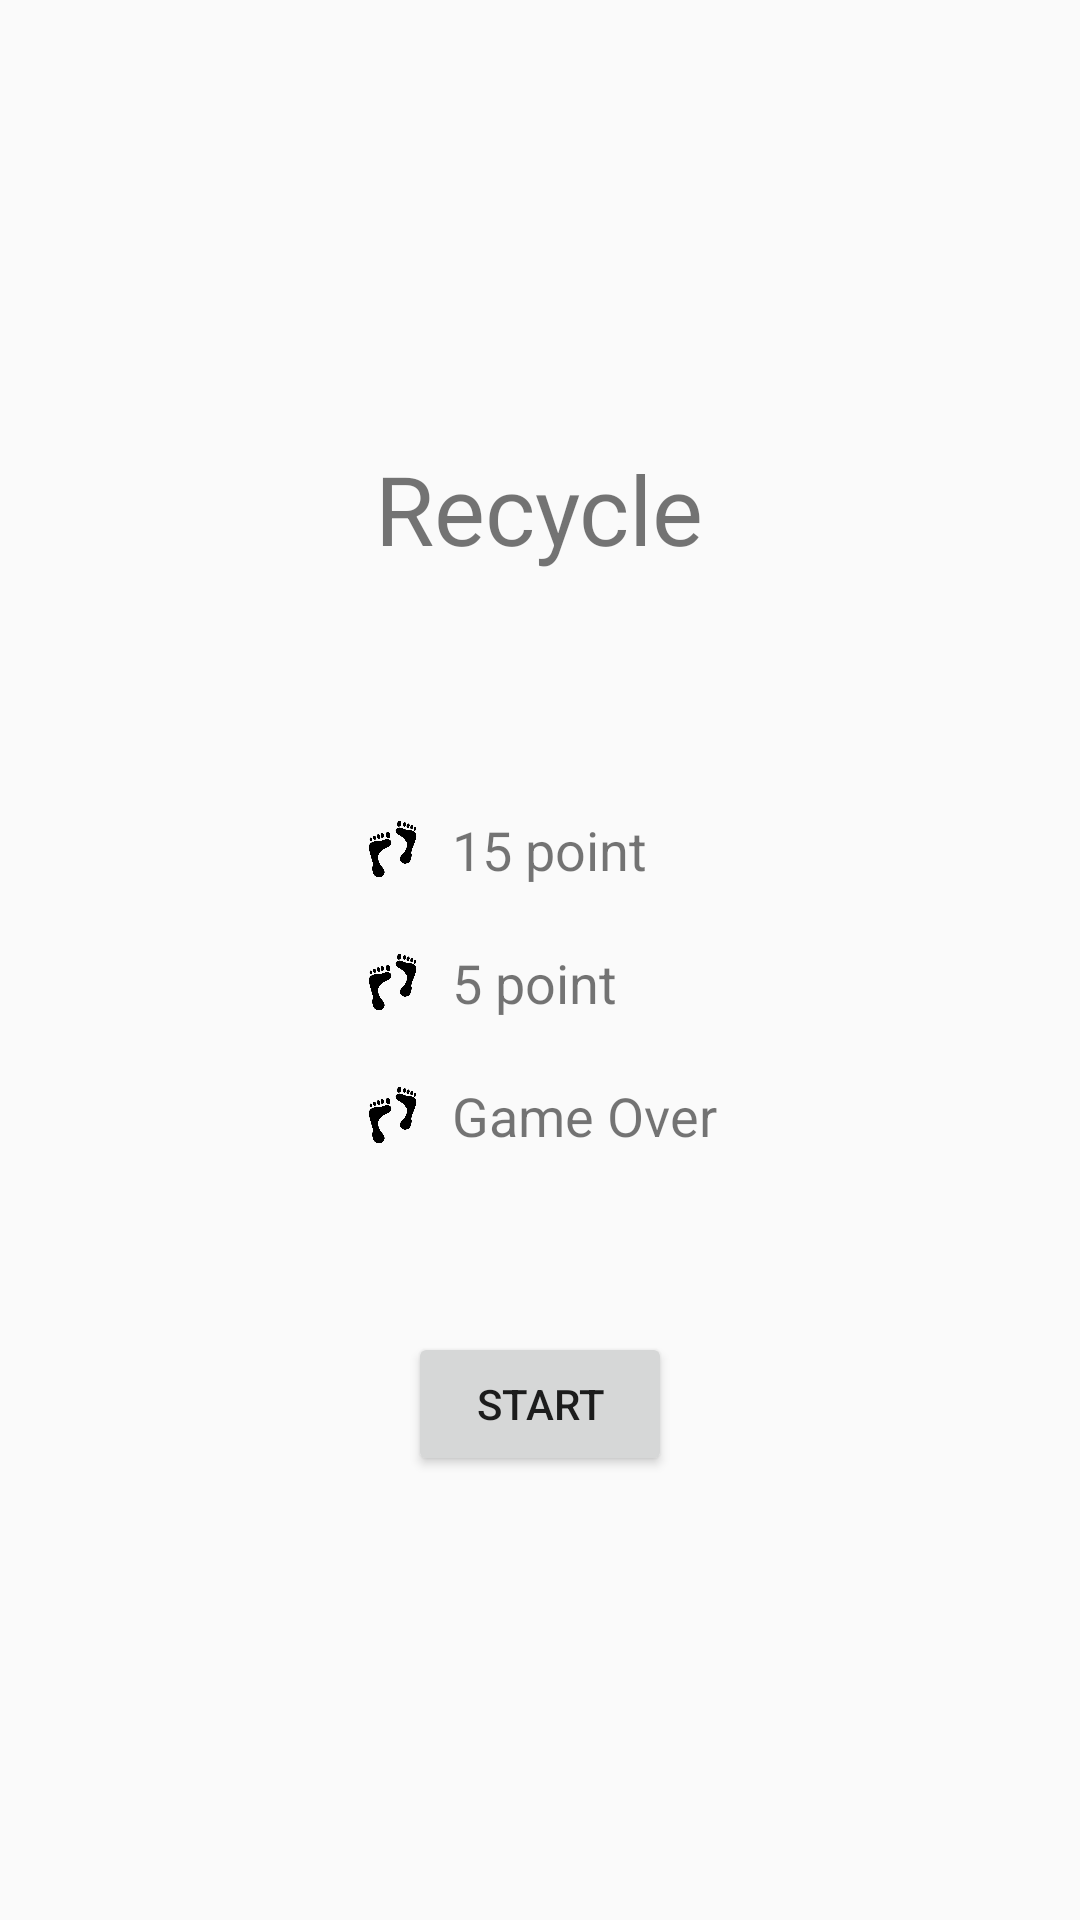

Where icons sit on this 1080px×1920px app screen, as (x1, y1, x2, y2):
foot: (369, 821, 416, 877), (369, 954, 416, 1010), (369, 1087, 416, 1143)
